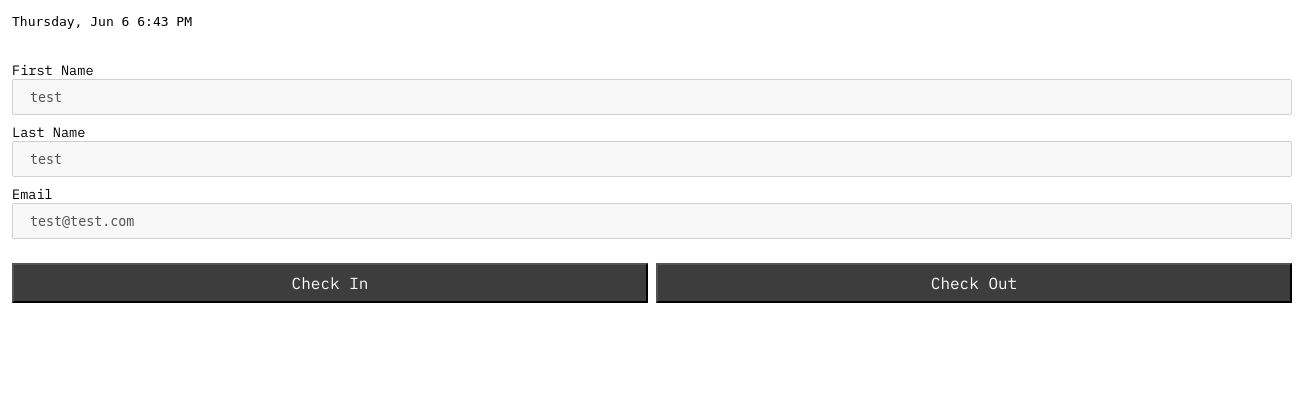
Scenario: <AttendanceForm/> component › should show error and enable edits if invalid submission
The width and height of the screenshot is (1304, 406).
Click the button with test id "check-in". click: (330, 283)
box: [12,263,648,303]
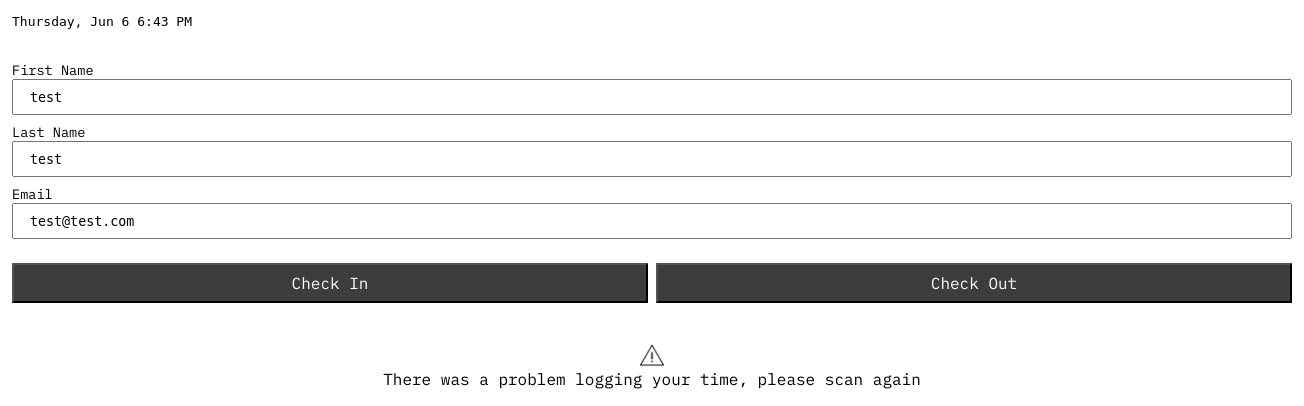
Expected: the field with test id "first-name" is enabled, [12,79,1292,115]
Expected: the field with test id "last-name" is enabled, [12,141,1292,177]
Expected: the field with test id "email" is enabled, [12,203,1292,239]
